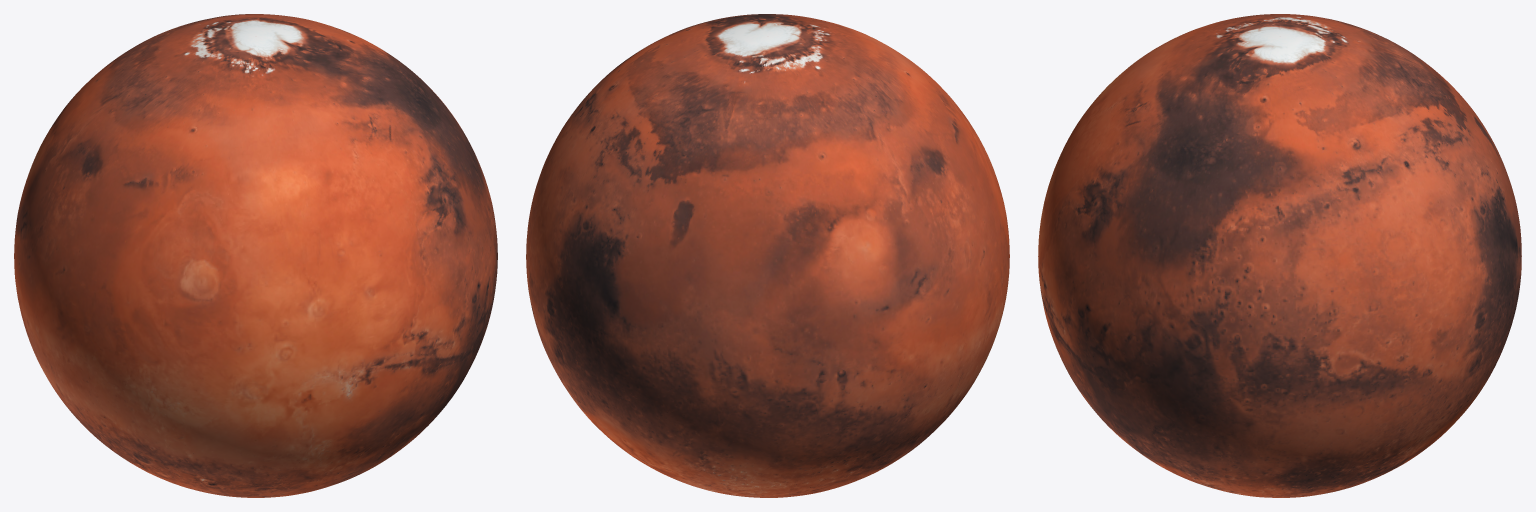
The model's file is mars.glb.
3 views of the same model, side by side, from view 1: azimuth 30°, elevation 25°; view 2: azimuth 150°, elevation 25°; view 3: azimuth 270°, elevation 25° (orthographic).
Parts seen in each view (by area): view 1: Mars; view 2: Mars; view 3: Mars.
Part boxes in pixels (<box>): Mars: <box>14,14,497,497</box>; Mars: <box>526,14,1009,497</box>; Mars: <box>1038,14,1521,497</box>.
Bounding box in the file's own units: 1.56 × 1.56 × 1.56.
1 material, 1 textured.
